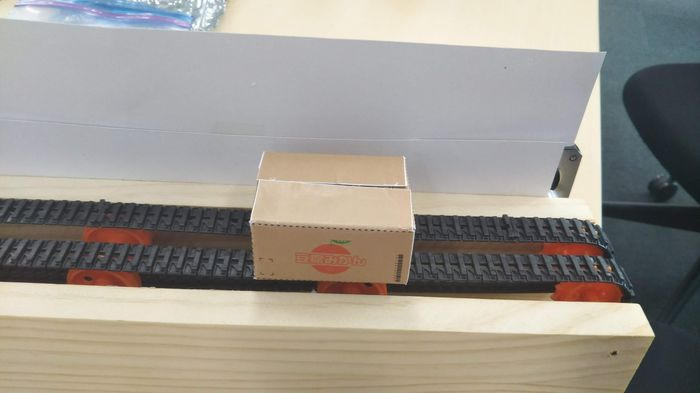box1: (247, 147, 419, 288)
